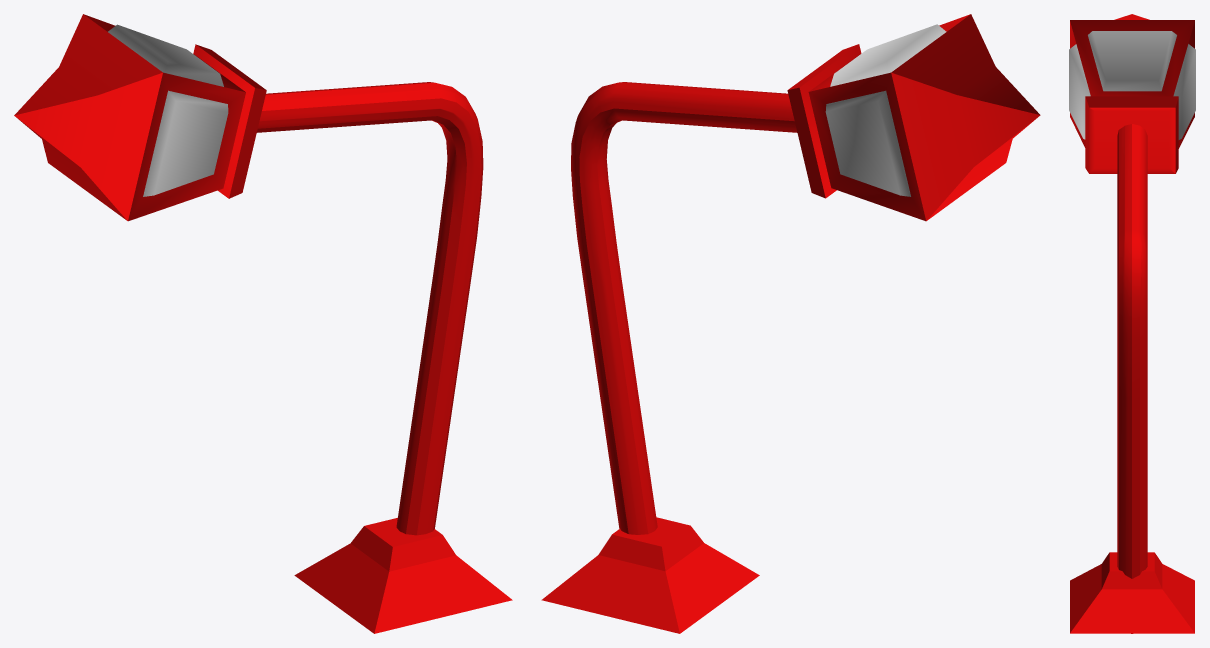
Rendered from light2.fbx.
3 renders of one model, left to right at view 1: azimuth 30°, elevation 25°; view 2: azimuth 150°, elevation 25°; view 3: azimuth 270°, elevation 25°, orthographic. The views are drawn at different scales.
Visible parts, largest first — view 1: Light1_0; view 2: Light1_0; view 3: Light1_0.
Part boxes in pixels (bbox=[...]): Light1_0: bbox=[14, 14, 512, 633]; Light1_0: bbox=[541, 14, 1040, 633]; Light1_0: bbox=[1069, 14, 1195, 633].
Bounding box in the file's own units: 1.78 × 2.33 × 0.5344.
